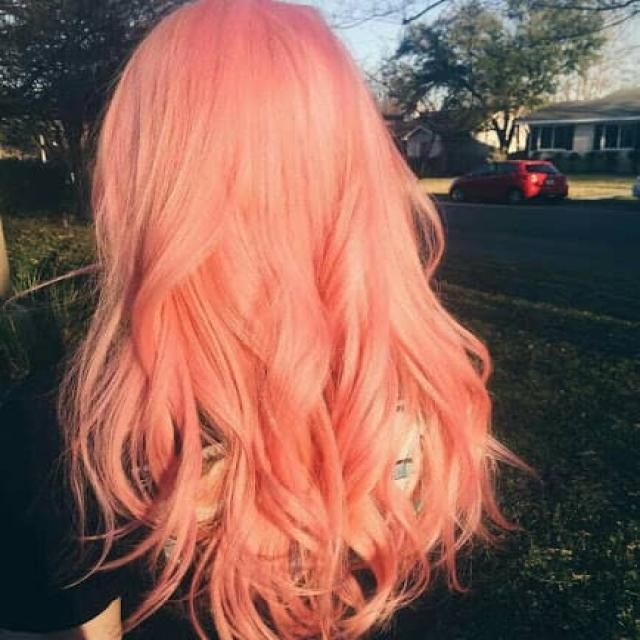Nonhelmet: (50, 0, 534, 328)
